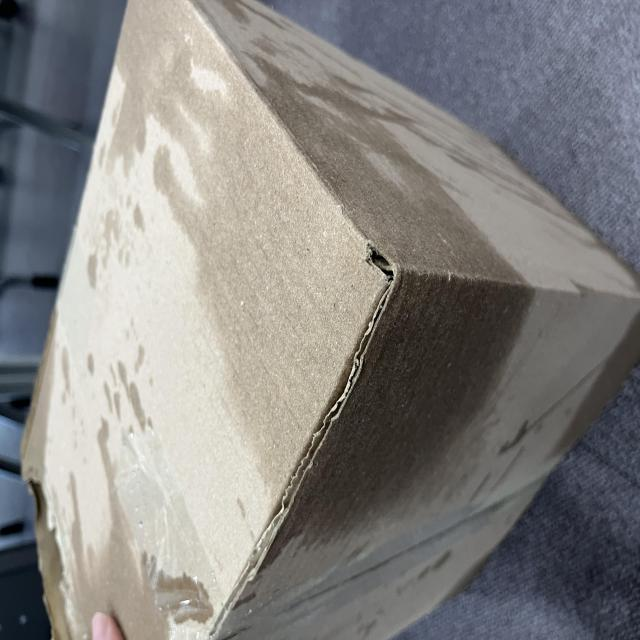wet: (93, 258, 422, 640)
